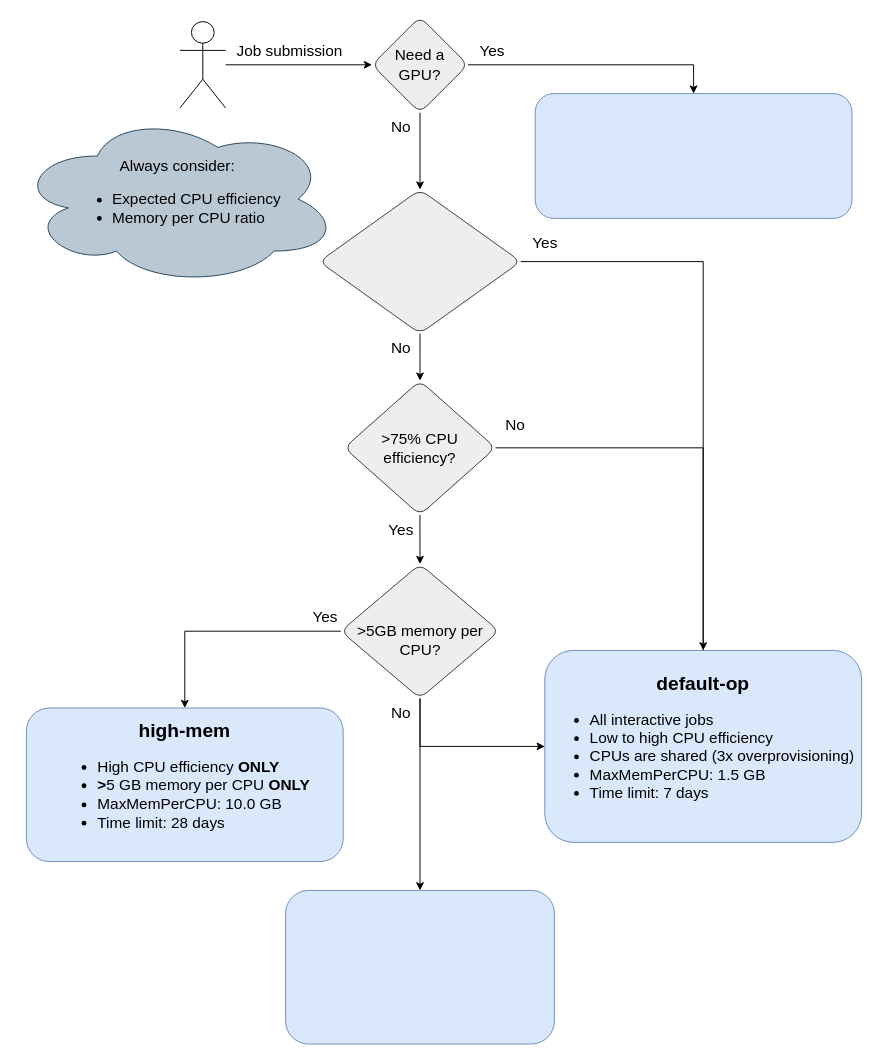
The diagram is 878 pixels wide and 1061 high, and some of its shapes have lost their labels. Each missing label, with the box of its shape:
general High CPU efficiency ONLY MaxMemPerCPU: 5.0 GB Time limit: 14 days: (285, 889, 554, 1044)
gpu Jobs that need a GPU ONLY No CPU/memory limits Time limit: 14 days: (534, 93, 852, 218)
Interactive job? (shell / code editor / virtual desktop): (318, 189, 521, 334)
